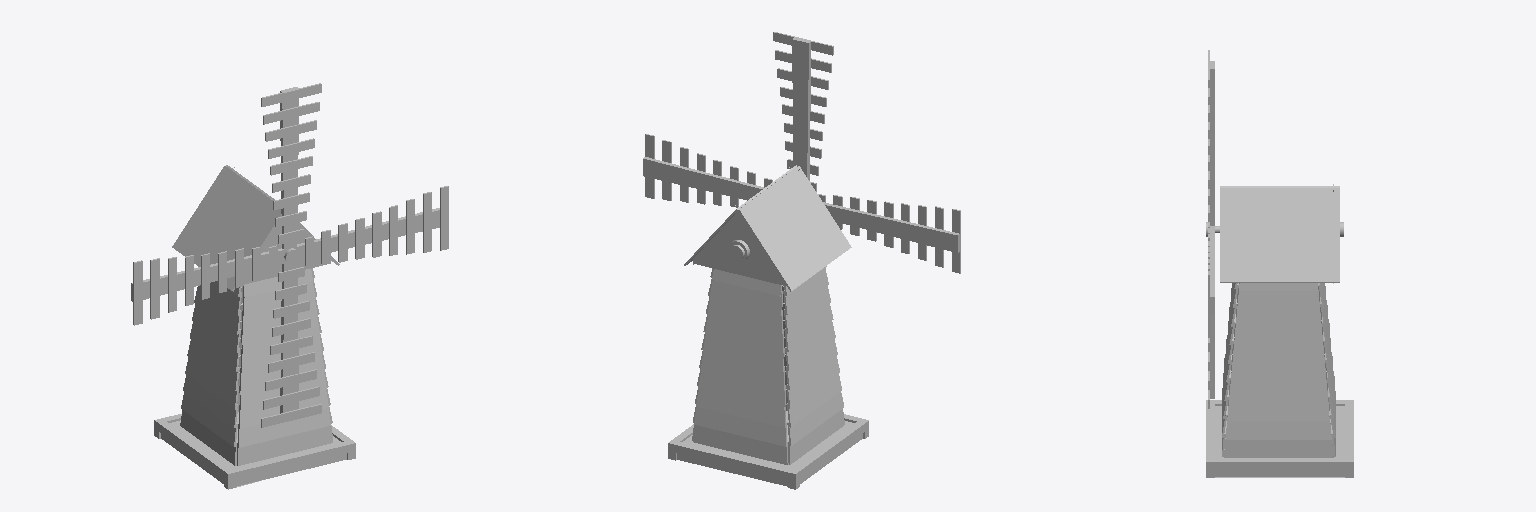
The model's file is moara.obj.
The picture shows the model from 3 angles: view 1: azimuth 30°, elevation 25°; view 2: azimuth 150°, elevation 25°; view 3: azimuth 270°, elevation 25°; orthographic projection.
Visible parts, largest first — view 1: Mesh84 Group88 Group1 Model, Mesh82 Group87 Group86 Group1 Model, Mesh6 Group9 Group6 Group5 Group1 Model, Mesh25 Group29 Group26 Group5 Group1 Model, Mesh72 Group77 Group75 Group1 Model, Mesh79 Group75 Group1 Model, Mesh71 Group76 Group75 Group1 Model, Mesh44 Group49 Group48 Group1 Model, Mesh45 Group50 Group48 Group1 Model, Mesh48 Group53 Group48 Group1 Model, Mesh46 Group51 Group48 Group1 Model, Mesh50 Group55 Group48 Group1 Model (+19 smaller); view 2: Mesh84 Group88 Group1 Model, Mesh82 Group87 Group86 Group1 Model, Mesh25 Group29 Group26 Group5 Group1 Model, Mesh6 Group9 Group6 Group5 Group1 Model, Mesh1 Group2 Group1 Model, Mesh61 Group57 Group1 Model, Mesh54 Group59 Group57 Group1 Model, Mesh53 Group58 Group57 Group1 Model, Mesh57 Group62 Group57 Group1 Model, Mesh55 Group60 Group57 Group1 Model, Mesh59 Group64 Group57 Group1 Model, Mesh58 Group63 Group57 Group1 Model (+11 smaller); view 3: Mesh80 Group84 Group1 Model, Mesh82 Group87 Group86 Group1 Model, Mesh70 Group66 Group1 Model, Mesh62 Group67 Group66 Group1 Model, Mesh63 Group68 Group66 Group1 Model, Mesh64 Group69 Group66 Group1 Model, Mesh66 Group71 Group66 Group1 Model, Mesh67 Group72 Group66 Group1 Model, Mesh68 Group73 Group66 Group1 Model, Mesh65 Group70 Group66 Group1 Model, Mesh69 Group74 Group66 Group1 Model, Mesh6 Group9 Group6 Group5 Group1 Model.
Boxes of the visible parts, box(x1,y1,x2,y2) form: Mesh84 Group88 Group1 Model: box(172, 166, 281, 291); Mesh82 Group87 Group86 Group1 Model: box(154, 412, 355, 489); Mesh6 Group9 Group6 Group5 Group1 Model: box(280, 87, 298, 413); Mesh25 Group29 Group26 Group5 Group1 Model: box(131, 208, 439, 301); Mesh72 Group77 Group75 Group1 Model: box(237, 426, 332, 465); Mesh79 Group75 Group1 Model: box(243, 269, 315, 315); Mesh71 Group76 Group75 Group1 Model: box(238, 408, 330, 447); Mesh44 Group49 Group48 Group1 Model: box(181, 392, 237, 446); Mesh45 Group50 Group48 Group1 Model: box(180, 410, 236, 465); Mesh48 Group53 Group48 Group1 Model: box(183, 375, 238, 427); Mesh46 Group51 Group48 Group1 Model: box(185, 357, 238, 409); Mesh50 Group55 Group48 Group1 Model: box(187, 340, 239, 390); Mesh84 Group88 Group1 Model: box(738, 166, 851, 291); Mesh82 Group87 Group86 Group1 Model: box(668, 412, 868, 489); Mesh25 Group29 Group26 Group5 Group1 Model: box(643, 157, 959, 252); Mesh6 Group9 Group6 Group5 Group1 Model: box(792, 37, 810, 180); Mesh1 Group2 Group1 Model: box(693, 211, 782, 280); Mesh61 Group57 Group1 Model: box(710, 269, 782, 315); Mesh54 Group59 Group57 Group1 Model: box(693, 425, 788, 464); Mesh53 Group58 Group57 Group1 Model: box(694, 407, 786, 446); Mesh57 Group62 Group57 Group1 Model: box(696, 389, 786, 427); Mesh55 Group60 Group57 Group1 Model: box(698, 371, 785, 409); Mesh59 Group64 Group57 Group1 Model: box(700, 353, 784, 390); Mesh58 Group63 Group57 Group1 Model: box(703, 335, 784, 371); Mesh80 Group84 Group1 Model: box(1220, 188, 1339, 282); Mesh82 Group87 Group86 Group1 Model: box(1206, 400, 1353, 477); Mesh70 Group66 Group1 Model: box(1237, 283, 1319, 309); Mesh62 Group67 Group66 Group1 Model: box(1226, 415, 1331, 439); Mesh63 Group68 Group66 Group1 Model: box(1224, 434, 1333, 457); Mesh64 Group69 Group66 Group1 Model: box(1229, 383, 1327, 402); Mesh66 Group71 Group66 Group1 Model: box(1227, 402, 1329, 420); Mesh67 Group72 Group66 Group1 Model: box(1232, 345, 1324, 365); Mesh68 Group73 Group66 Group1 Model: box(1231, 366, 1326, 383); Mesh65 Group70 Group66 Group1 Model: box(1234, 323, 1323, 346); Mesh69 Group74 Group66 Group1 Model: box(1236, 305, 1321, 327); Mesh6 Group9 Group6 Group5 Group1 Model: box(1210, 61, 1214, 398).
Bounding box in the file's own units: 18.84 × 21.85 × 7.66.